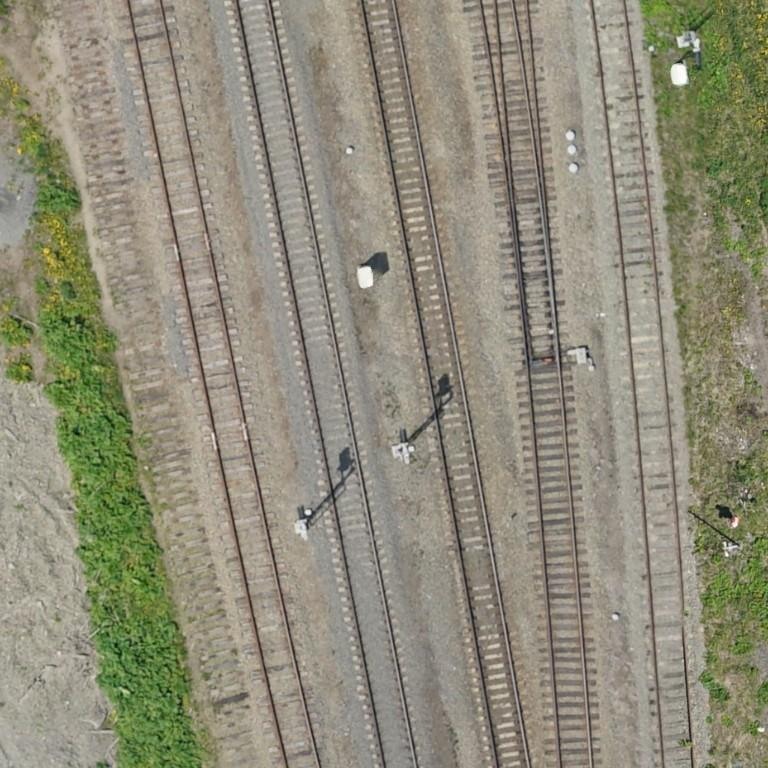hogweed: (39, 310, 202, 767), (38, 177, 80, 212)
